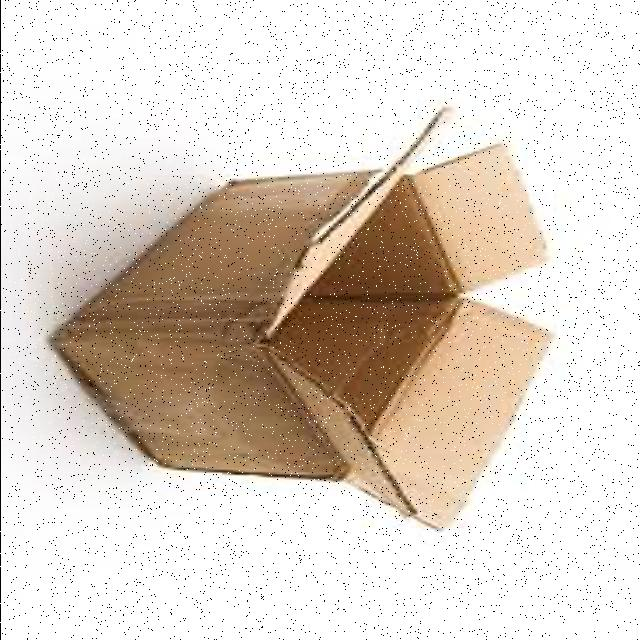defect: (47, 103, 555, 534)
